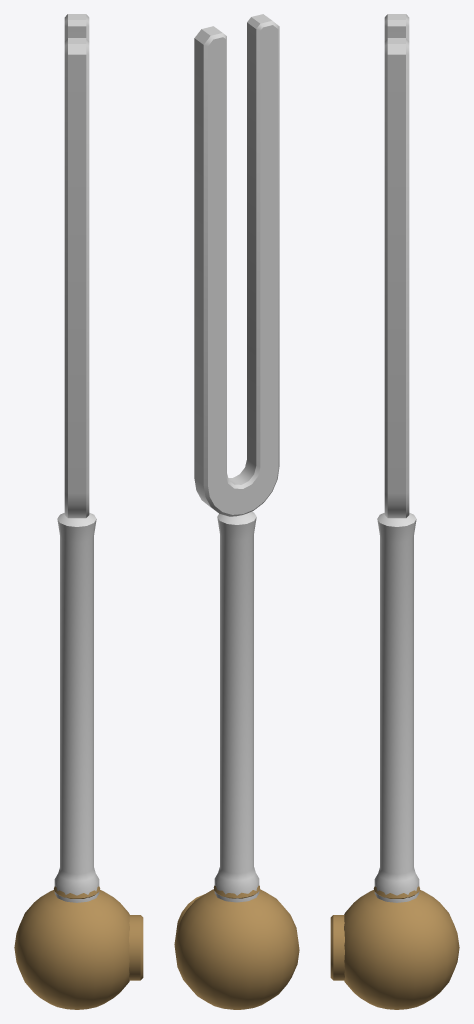
The model's file is strand_fork.glb.
3 renders of one model, left to right at view 1: azimuth 90°, elevation 25°; view 2: azimuth 210°, elevation 25°; view 3: azimuth 270°, elevation 25°, orthographic.
Parts seen in each view (by area): view 1: strand_fork; view 2: strand_fork; view 3: strand_fork.
Part boxes in pixels (box(x1,y1,x2,y2)): strand_fork: box(14, 14, 143, 1009); strand_fork: box(174, 14, 299, 1009); strand_fork: box(330, 14, 459, 1009).
Bounding box in the file's own units: 0.028 × 0.24 × 0.0293.
